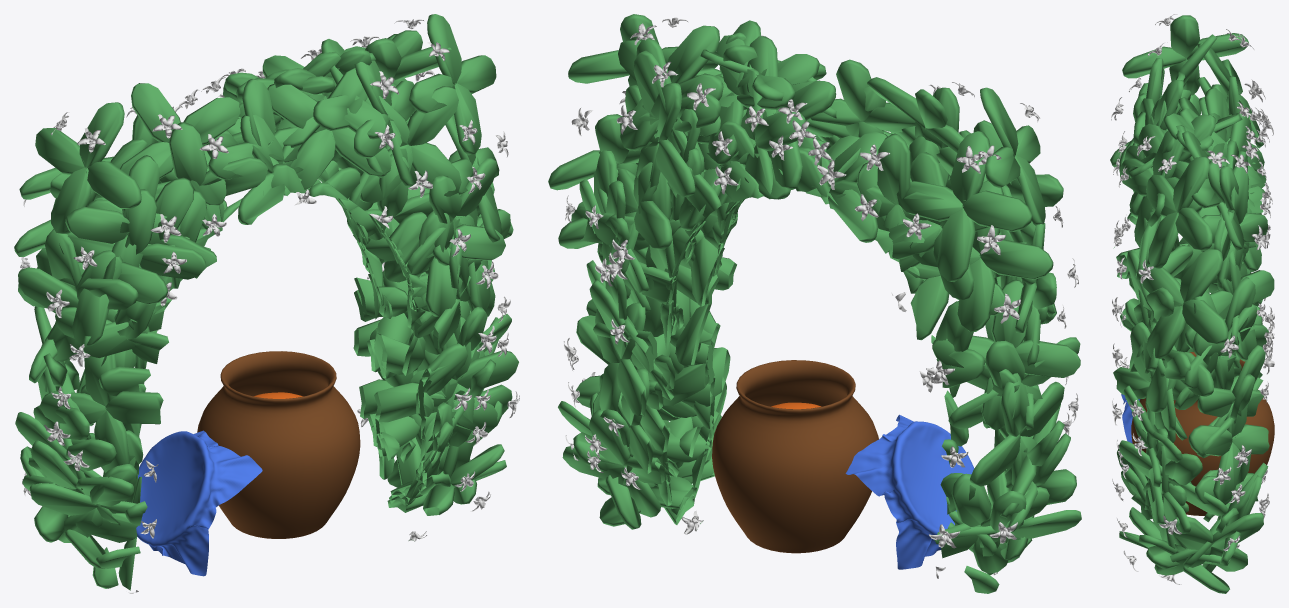
Rendered from Target.fbx.
3 renders of one model, left to right at view 1: azimuth 30°, elevation 25°; view 2: azimuth 150°, elevation 25°; view 3: azimuth 270°, elevation 25°, orthographic. The views are drawn at different scales.
Visible parts, largest first — view 1: Honey; view 2: Honey; view 3: Honey.
Boxes of the visible parts, bbox=[...] form: Honey: bbox=[14, 14, 519, 593]; Honey: bbox=[548, 14, 1081, 593]; Honey: bbox=[1110, 14, 1274, 593].
Bounding box in the file's own units: 391 × 386 × 129.
